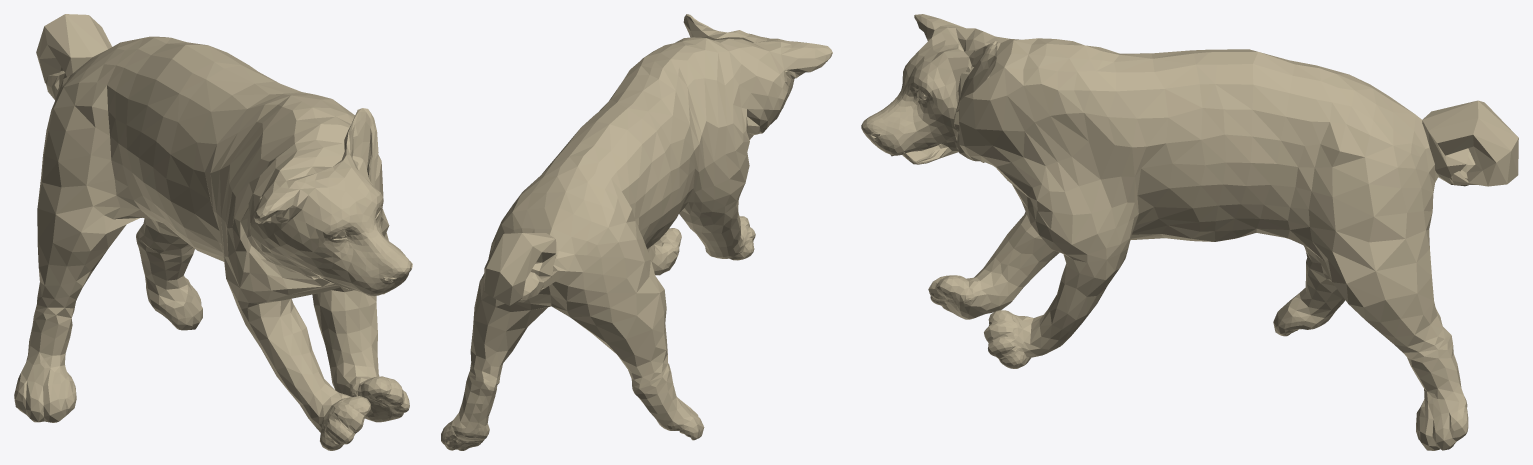
The picture shows the model from 3 angles, left to right: view 1: azimuth 30°, elevation 25°; view 2: azimuth 150°, elevation 25°; view 3: azimuth 270°, elevation 25°; orthographic projection. The views are drawn at different scales.
Parts seen in each view (by area): view 1: world; view 2: world; view 3: world.
Boxes of the visible parts, x1,y1,x2,y2 form: world: [14, 14, 412, 450]; world: [441, 14, 832, 450]; world: [861, 14, 1518, 450].
Bounding box in the file's own units: 0.5261 × 0.7961 × 1.24.
